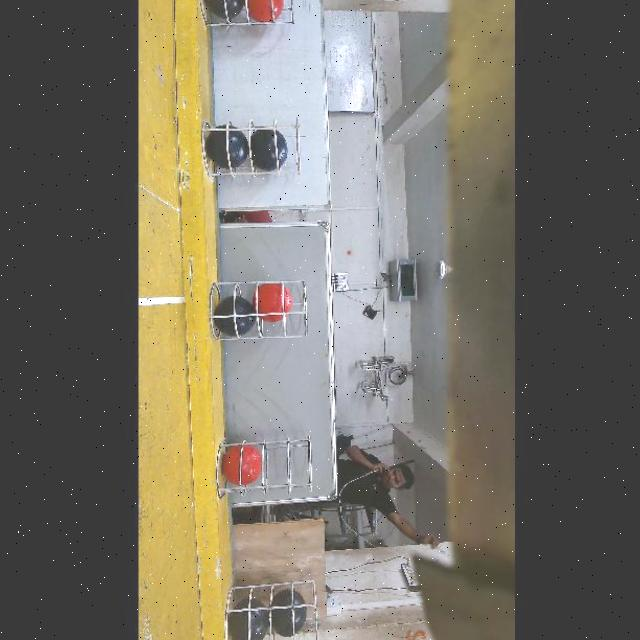P: (268, 590, 307, 637), (208, 126, 248, 167), (229, 600, 270, 640), (250, 129, 288, 171), (216, 297, 255, 336), (205, 0, 242, 16)
R: (222, 443, 262, 486), (258, 283, 292, 322), (243, 0, 284, 21)
S: (191, 116, 301, 178), (200, 0, 302, 26)
